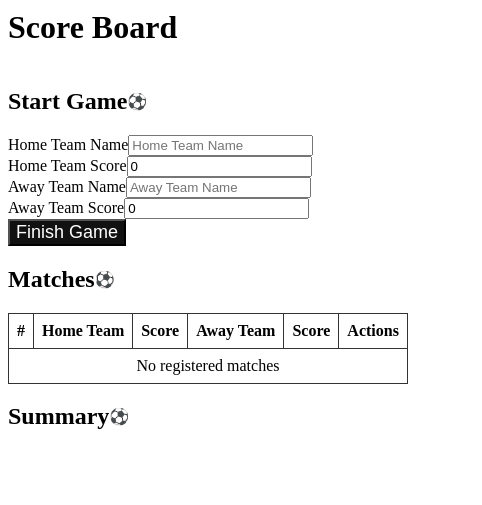
Test: <ScoreBoard /> › End a game › should remove a match from the scoreboard
Type "Peru" into the field with placeholder "Home Team Name". click: (221, 145)
box: x1=128 y1=135 x2=313 y2=156
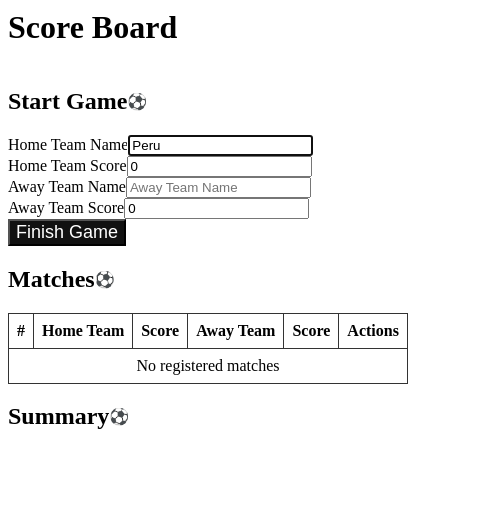
Type "5" into the 1st number field with placeholder "Home Team Score". click: (219, 166)
box: x1=126 y1=156 x2=312 y2=177
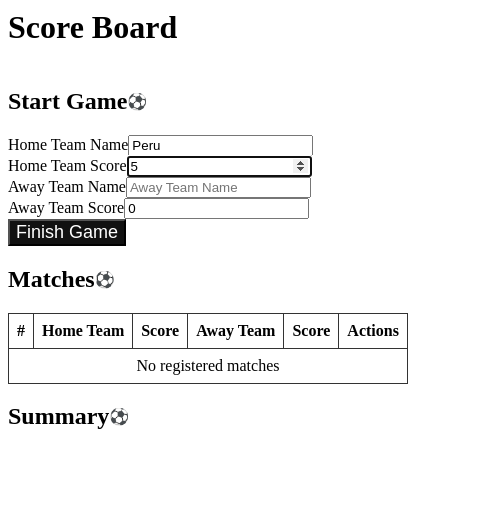
Type "Nigeria" into the field with placeholder "Away Team Name". click: (218, 187)
box: x1=126 y1=177 x2=311 y2=198
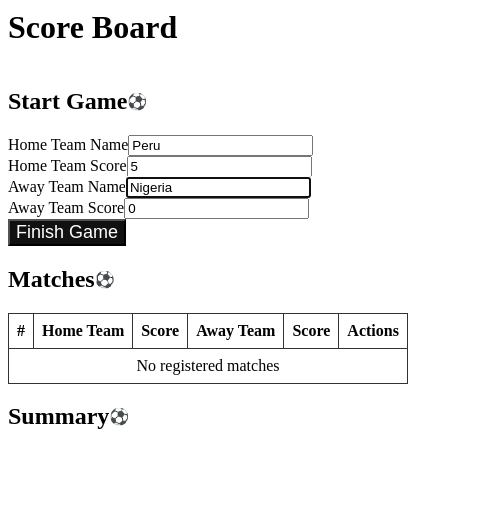
Type "2" into the 2nd number field with placeholder "Away Team Score". click: (217, 208)
box: x1=124 y1=198 x2=309 y2=219
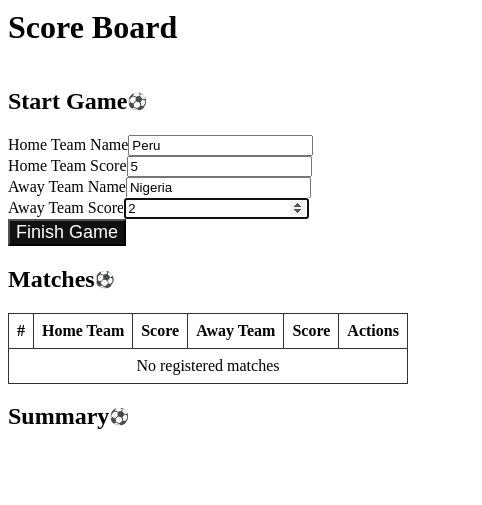
Click the button "Finish Game". click: (67, 232)
box: x1=8 y1=219 x2=126 y2=246
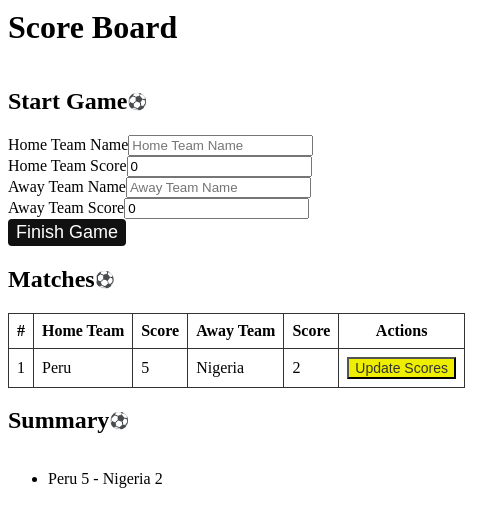
Expected: the field with placeholder "Home Team Name" is empty, x1=128 y1=135 x2=313 y2=156
Expected: the 1st number field with placeholder "Home Team Score" holds "0", x1=126 y1=156 x2=312 y2=177
Expected: the field with placeholder "Away Team Name" is empty, x1=126 y1=177 x2=311 y2=198
